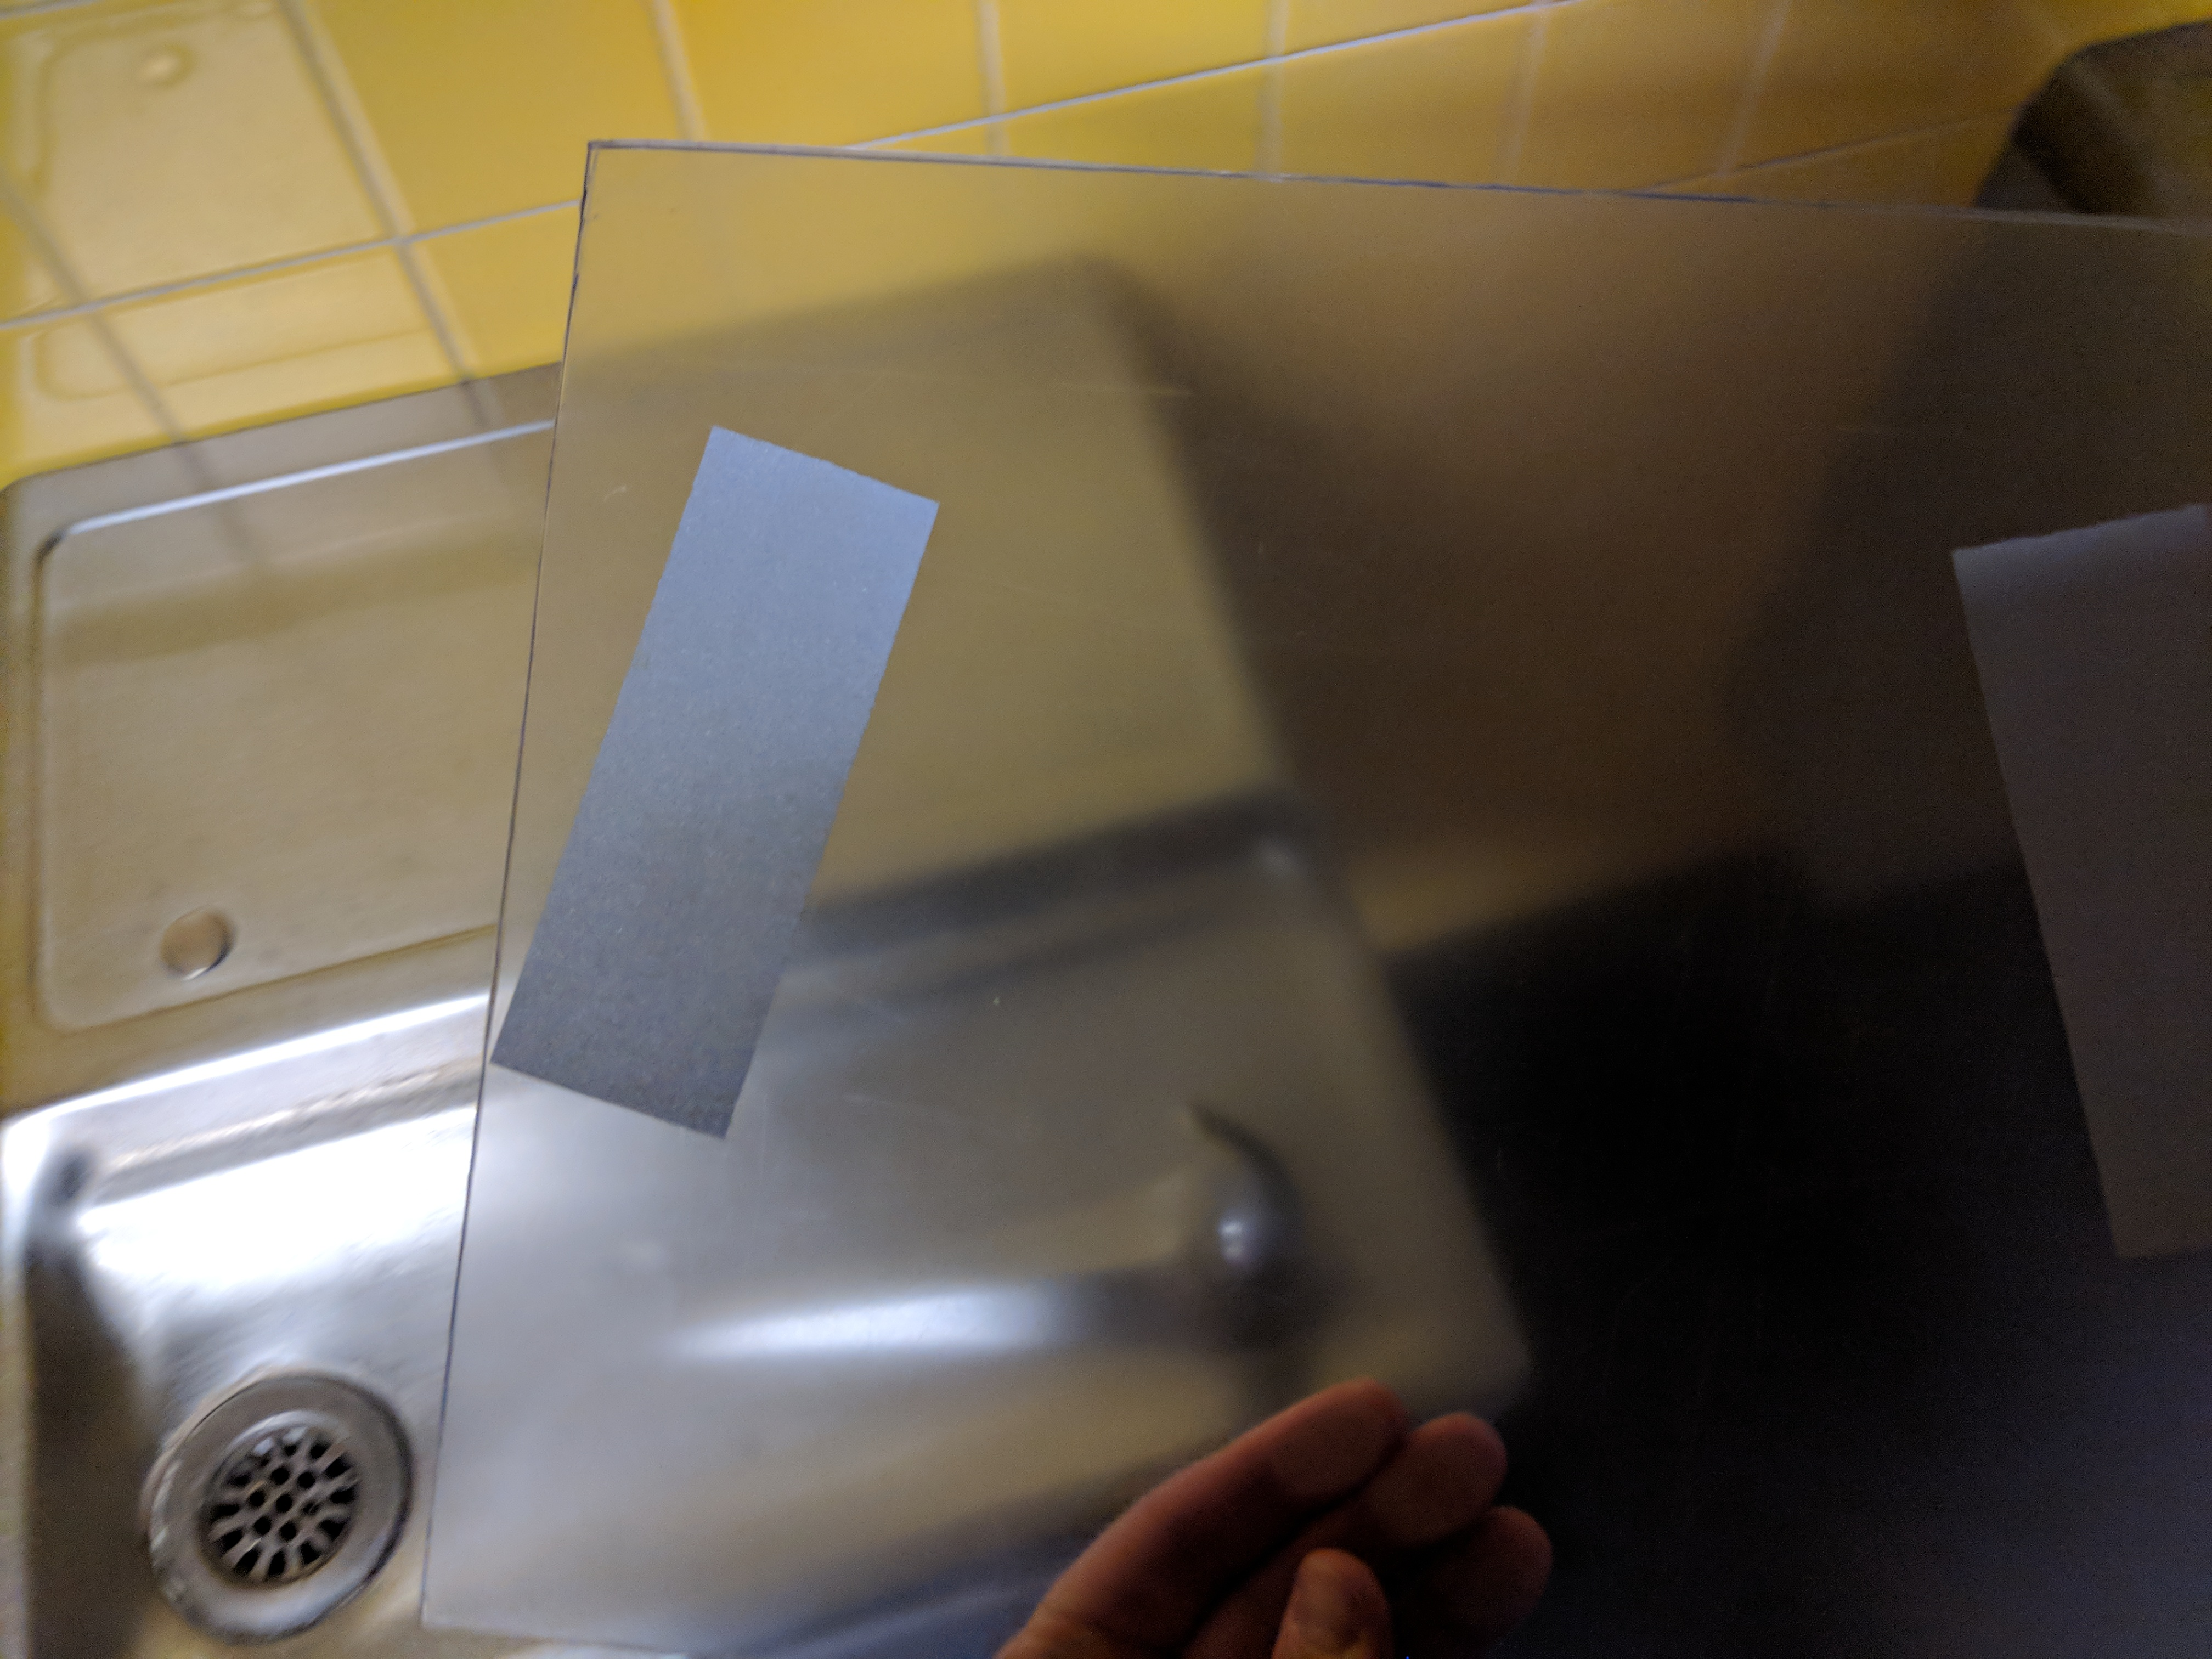vision_target: (482, 415, 2212, 1269)
